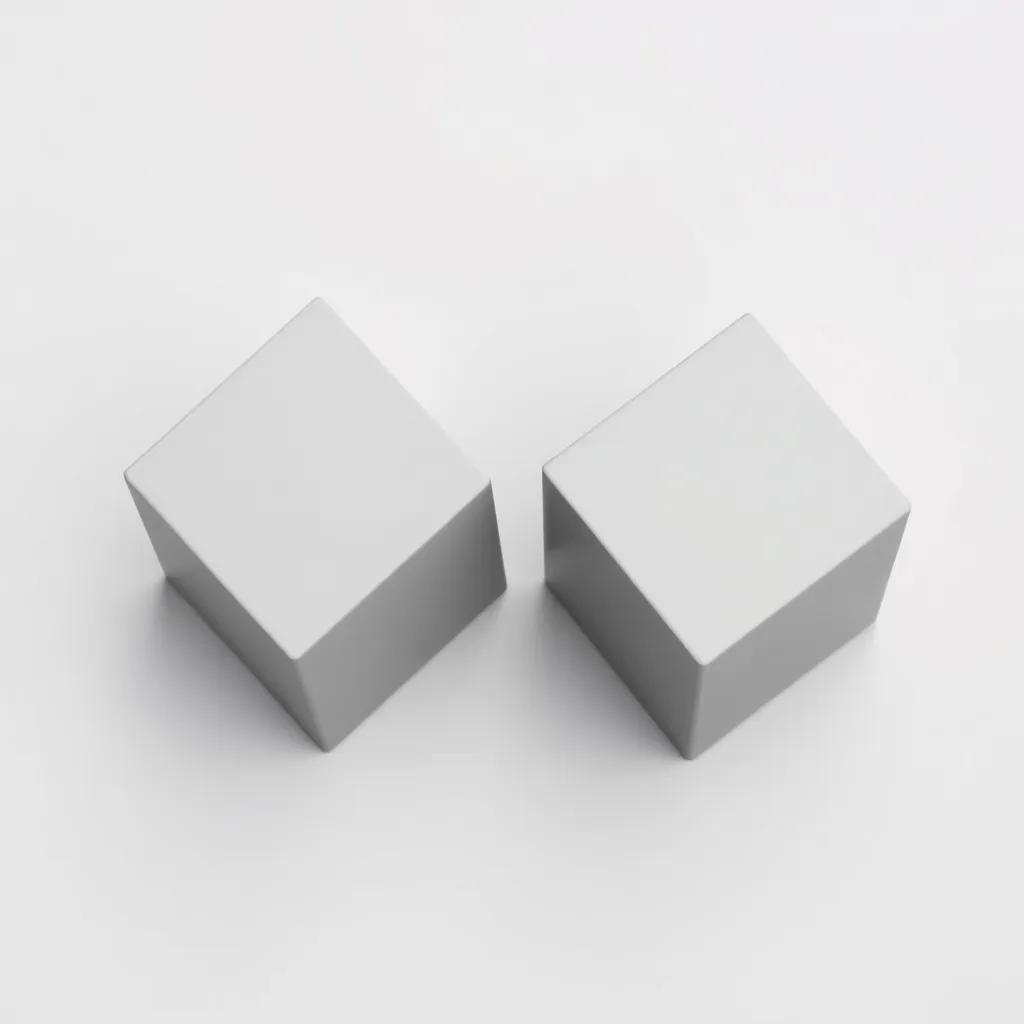cube: (122, 294, 507, 752), (540, 310, 911, 760)
